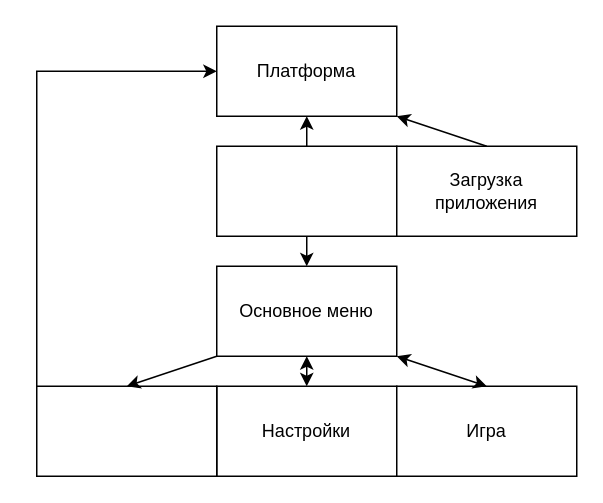
Some shapes in this 603 by 503 pixel diagram are drawn without their labels. The centre of each missing label's shape, as x and y in pixels:
"Выход из игры" goes at pixel 126 430.
"Запуск" goes at pixel 306 190.
